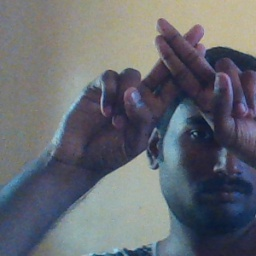F: (111, 8, 242, 130)
